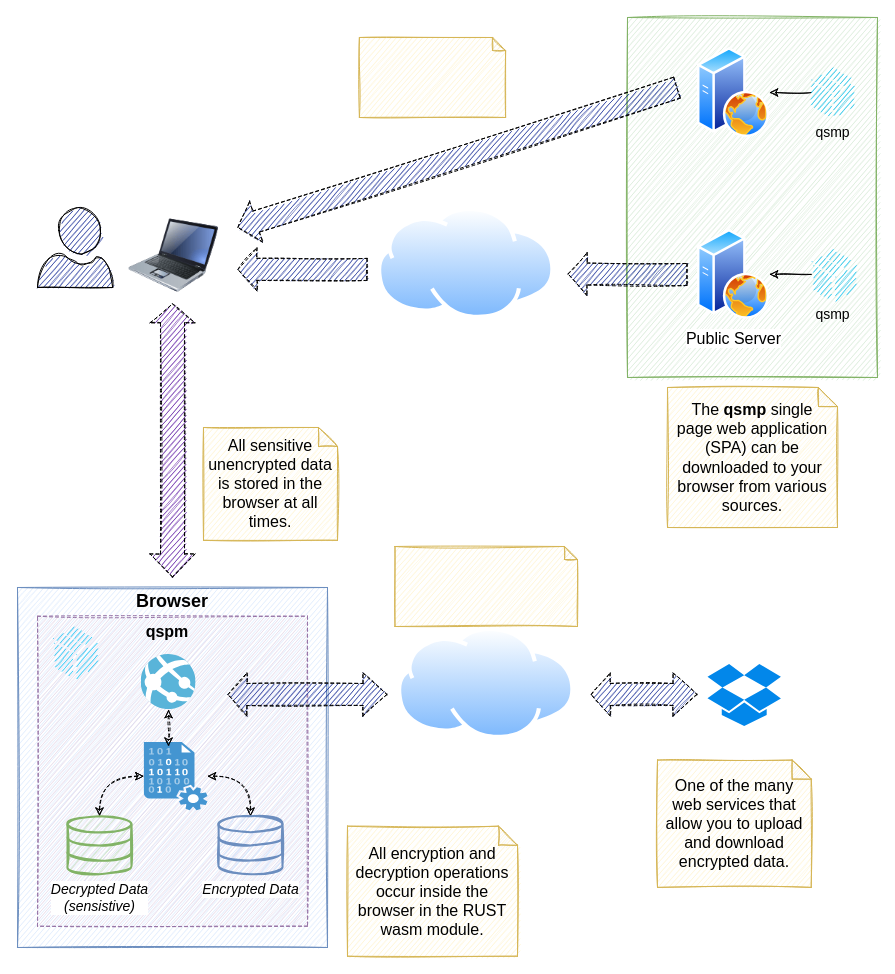
Some shapes in this 895 by 974 pixel diagram are drawn without their labels. Each missing label, with the box of its shape:
Download and run the web app in a browser sandbox.: (358, 36, 506, 118)
DropBox: (706, 663, 781, 726)
http://localhost:8005: (697, 47, 769, 137)
Only encrypted data is sent or receive outside the web app.: (394, 546, 578, 626)
wasm: (143, 742, 207, 810)
